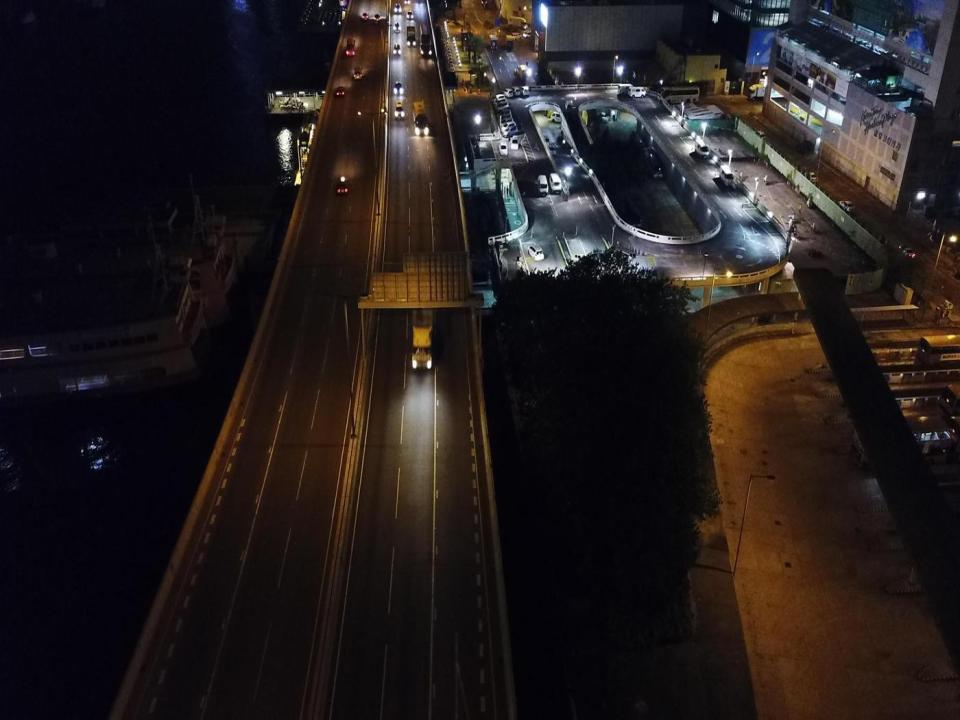bus: (852, 416, 952, 468), (912, 334, 960, 376), (658, 85, 700, 105), (646, 152, 662, 179), (419, 23, 431, 54), (629, 130, 645, 152), (346, 36, 355, 55)
car: (527, 245, 544, 261), (550, 110, 568, 124), (838, 200, 855, 213), (899, 245, 915, 258), (337, 177, 348, 195), (501, 120, 516, 132), (395, 100, 404, 119), (804, 171, 818, 183), (504, 125, 518, 137), (494, 102, 509, 112), (498, 114, 512, 124), (500, 118, 513, 127), (503, 87, 513, 98), (520, 86, 530, 97), (335, 86, 346, 96), (495, 98, 507, 107), (494, 93, 506, 102), (498, 109, 511, 117), (756, 130, 766, 140), (522, 31, 535, 38), (394, 43, 401, 56), (512, 86, 520, 97), (549, 144, 556, 156), (395, 82, 402, 94), (600, 112, 608, 122), (511, 33, 522, 40), (394, 22, 401, 32), (361, 12, 368, 20), (406, 10, 412, 19), (374, 14, 380, 21), (395, 4, 400, 12)
truck: (411, 283, 436, 369), (749, 83, 784, 100), (412, 100, 429, 134), (406, 26, 416, 46), (516, 65, 529, 79), (540, 135, 549, 150), (504, 35, 513, 49), (489, 34, 497, 49)
van: (719, 164, 734, 186), (694, 138, 709, 159), (548, 172, 562, 194), (628, 86, 647, 98), (537, 174, 548, 194), (617, 83, 634, 94), (500, 140, 508, 155), (511, 135, 519, 150), (354, 66, 362, 78)
